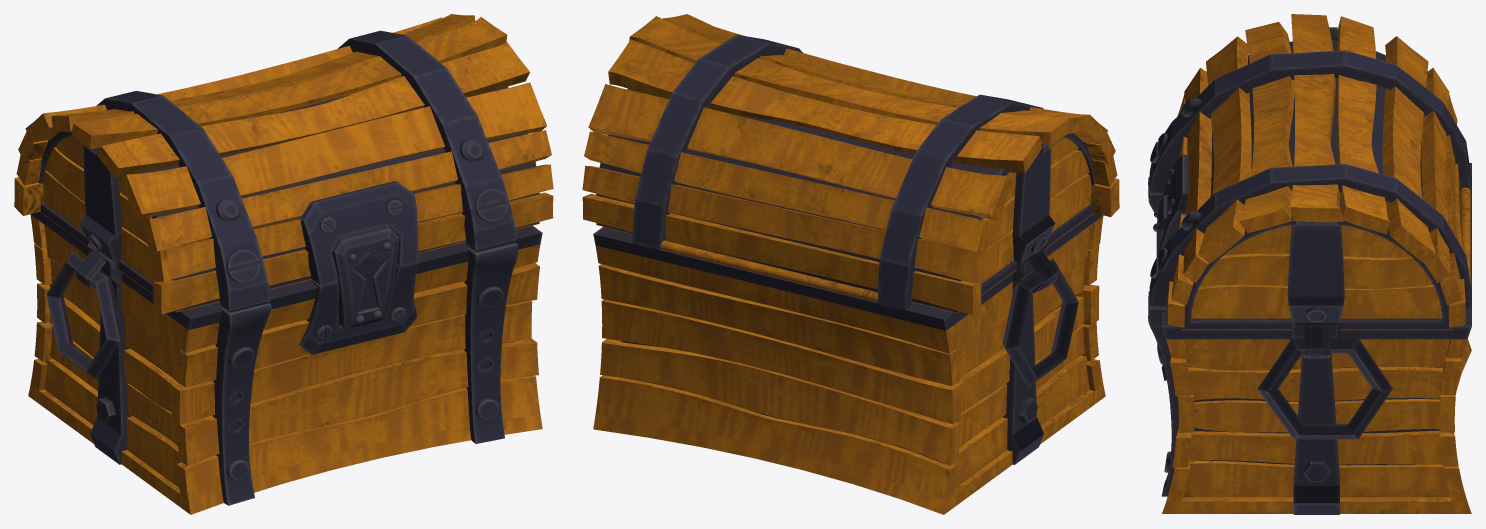
The model's file is coffre_autosave_1.obj.
3 renders of one model, left to right at view 1: azimuth 30°, elevation 25°; view 2: azimuth 150°, elevation 25°; view 3: azimuth 270°, elevation 25°, orthographic. The views are drawn at different scales.
Parts seen in each view (by area): view 1: obj41, obj27, obj9, obj25, obj40, obj7, obj37, obj8, obj24, obj12, obj49, obj1 (+25 smaller); view 2: obj28, obj3, obj5, obj10, obj26, obj6, obj31, obj32, obj33, obj49, obj40, obj24 (+21 smaller); view 3: obj37, obj49, obj40, obj18, obj24, obj25, obj28, obj16, obj2, obj44, obj26, obj27 (+29 smaller).
Part boxes in pixels (left/top/right/bottom): obj41: left=299, top=181, right=418, bottom=354; obj27: left=120, top=82, right=546, bottom=219; obj9: left=177, top=339, right=538, bottom=466; obj25: left=97, top=42, right=529, bottom=177; obj40: left=338, top=30, right=516, bottom=252; obj7: left=176, top=375, right=540, bottom=499; obj37: left=96, top=90, right=270, bottom=312; obj8: left=171, top=301, right=532, bottom=424; obj24: left=71, top=17, right=507, bottom=149; obj12: left=142, top=130, right=551, bottom=255; obj49: left=30, top=212, right=542, bottom=464; obj1: left=28, top=384, right=542, bottom=514; obj28: left=588, top=84, right=1013, bottom=220; obj3: left=600, top=339, right=960, bottom=465; obj5: left=595, top=375, right=957, bottom=499; obj10: left=601, top=299, right=960, bottom=423; obj26: left=608, top=39, right=1041, bottom=173; obj6: left=598, top=264, right=960, bottom=385; obj31: left=584, top=131, right=991, bottom=256; obj32: left=582, top=165, right=981, bottom=282; obj33: left=582, top=193, right=981, bottom=315; obj49: left=593, top=213, right=1103, bottom=464; obj40: left=631, top=34, right=802, bottom=249; obj24: left=629, top=16, right=1069, bottom=147; obj37: left=1149, top=50, right=1471, bottom=194; obj49: left=1161, top=163, right=1471, bottom=514; obj40: left=1149, top=164, right=1471, bottom=308; obj18: left=1183, top=461, right=1449, bottom=497; obj24: left=1290, top=14, right=1343, bottom=222; obj25: left=1239, top=22, right=1294, bottom=233; obj28: left=1382, top=36, right=1435, bottom=263; obj16: left=1189, top=431, right=1442, bottom=464; obj2: left=1181, top=40, right=1452, bottom=329; obj44: left=1191, top=284, right=1442, bottom=318; obj26: left=1337, top=16, right=1389, bottom=234; obj27: left=1198, top=36, right=1251, bottom=263.
Bounding box in the file's own units: 147 × 114 × 104.
Materials: 1 (1 with a texture image).
